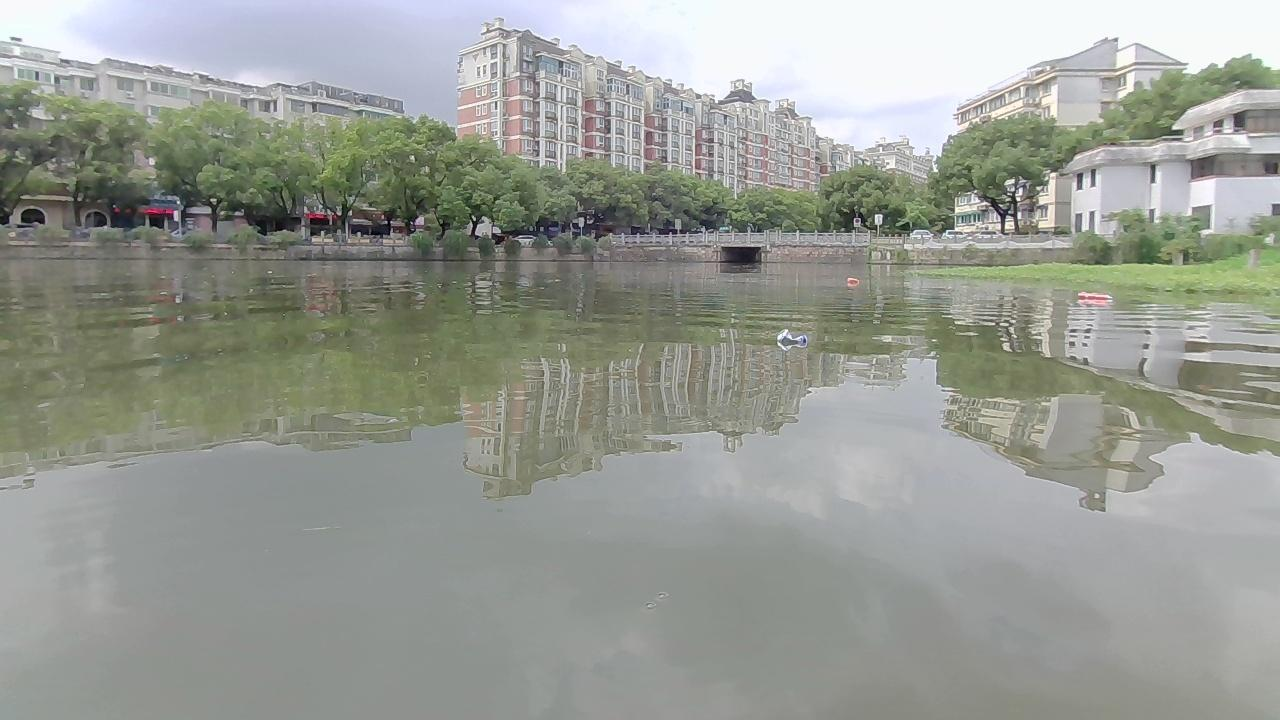bottle: (774, 328, 806, 343), (1076, 290, 1112, 298), (846, 276, 859, 282)
